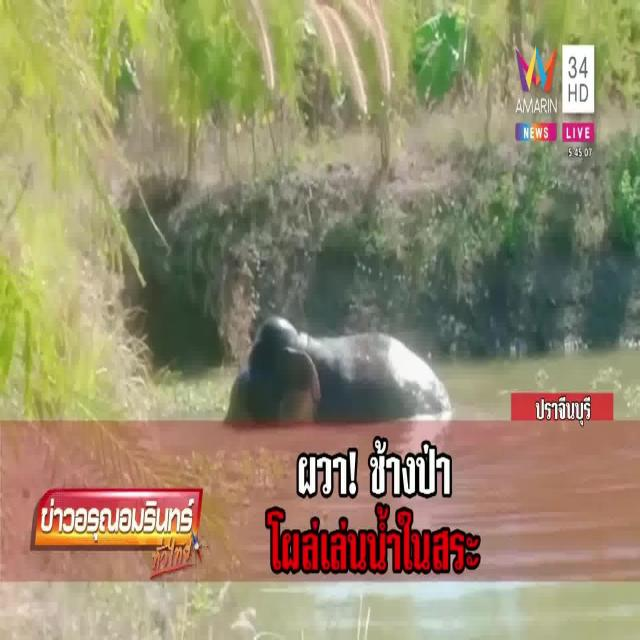Elephant: (225, 297, 447, 419)
